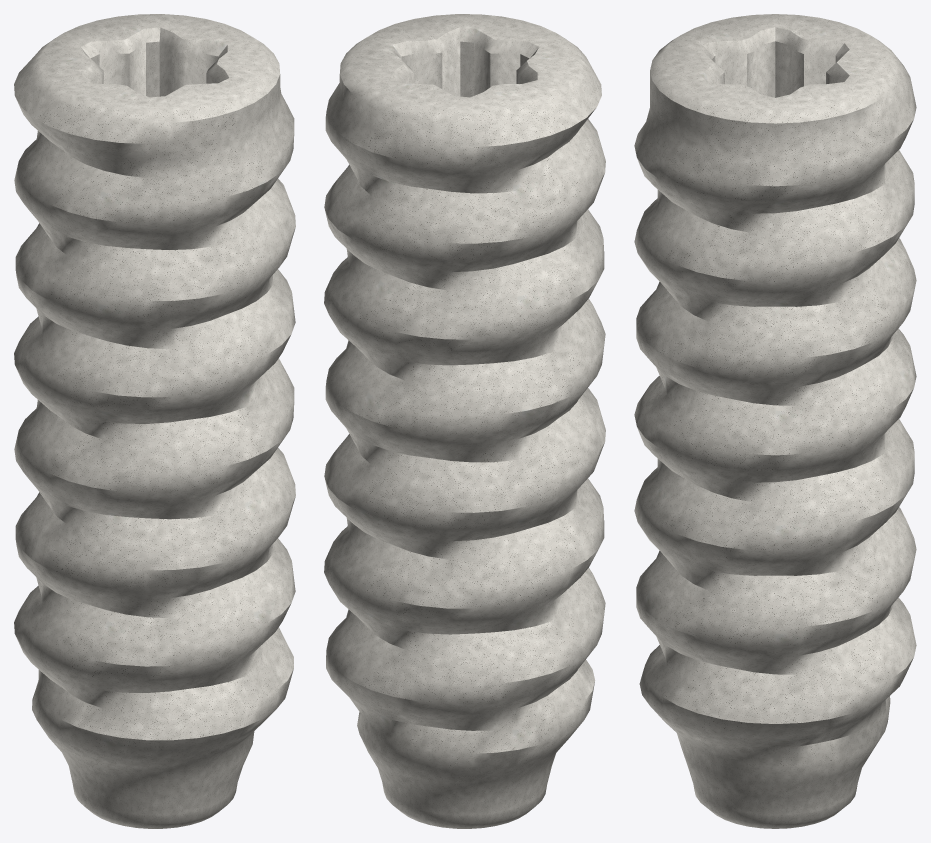
The model's file is graftfix_8x23_lod1.glb.
3 views of the same model, side by side, from view 1: azimuth 30°, elevation 25°; view 2: azimuth 150°, elevation 25°; view 3: azimuth 270°, elevation 25° (orthographic).
Parts seen in each view (by area): view 1: graftfix; view 2: graftfix; view 3: graftfix.
Part boxes in pixels (<box>): graftfix: <box>14,14,295,828</box>; graftfix: <box>324,14,605,828</box>; graftfix: <box>634,14,916,828</box>.
Size of the model in its own units: 0.008 by 0.023 by 0.00799.
Materials: 1 (1 with a texture image).
